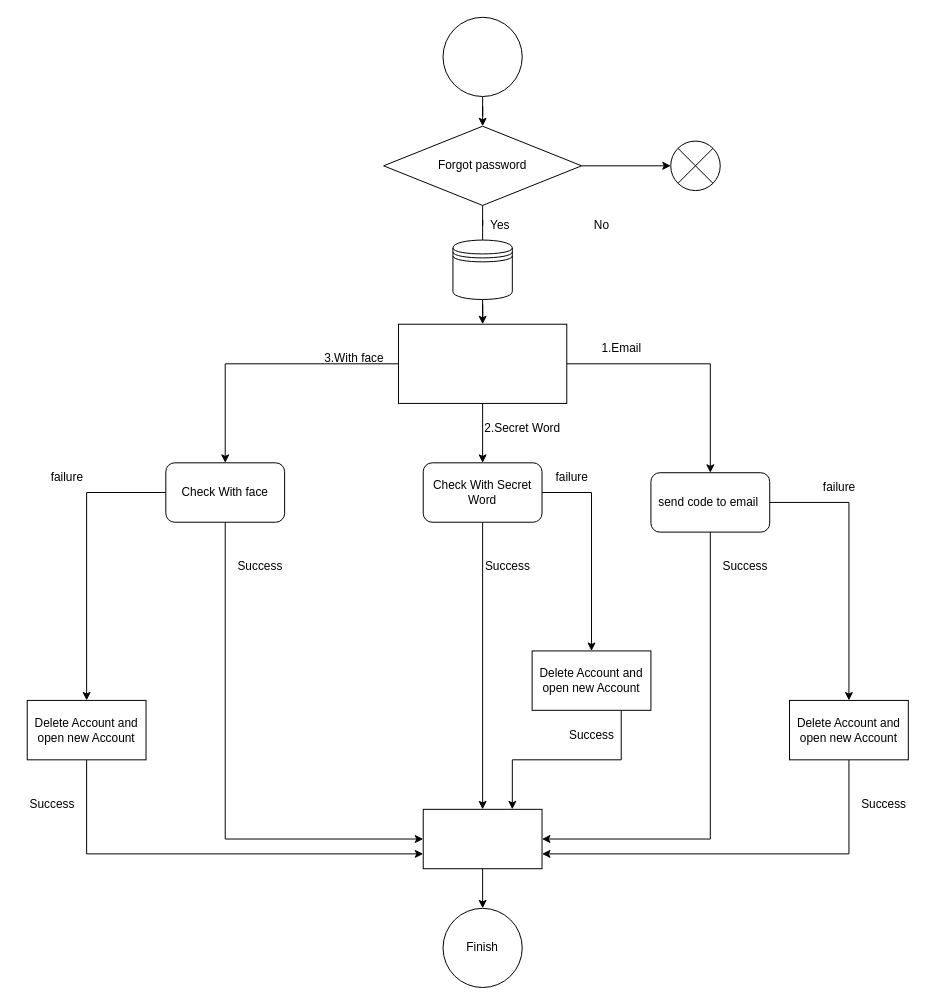
Image size: 935x1005. Some labels were removed from this diagram. The centre of each missing label's shape, as x and y in pixels:
"1.email 2.Secret word 3.With face" goes at [482,363].
"Set new password" goes at [482,838].
"Start" goes at [482,56].
